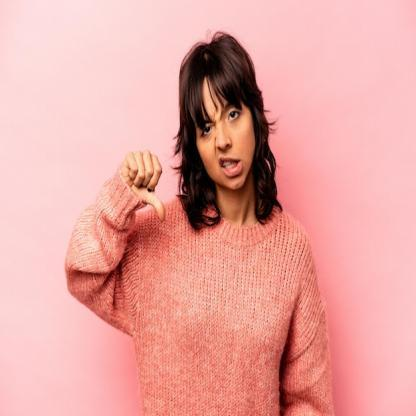thumb_down: (120, 142, 168, 227)
